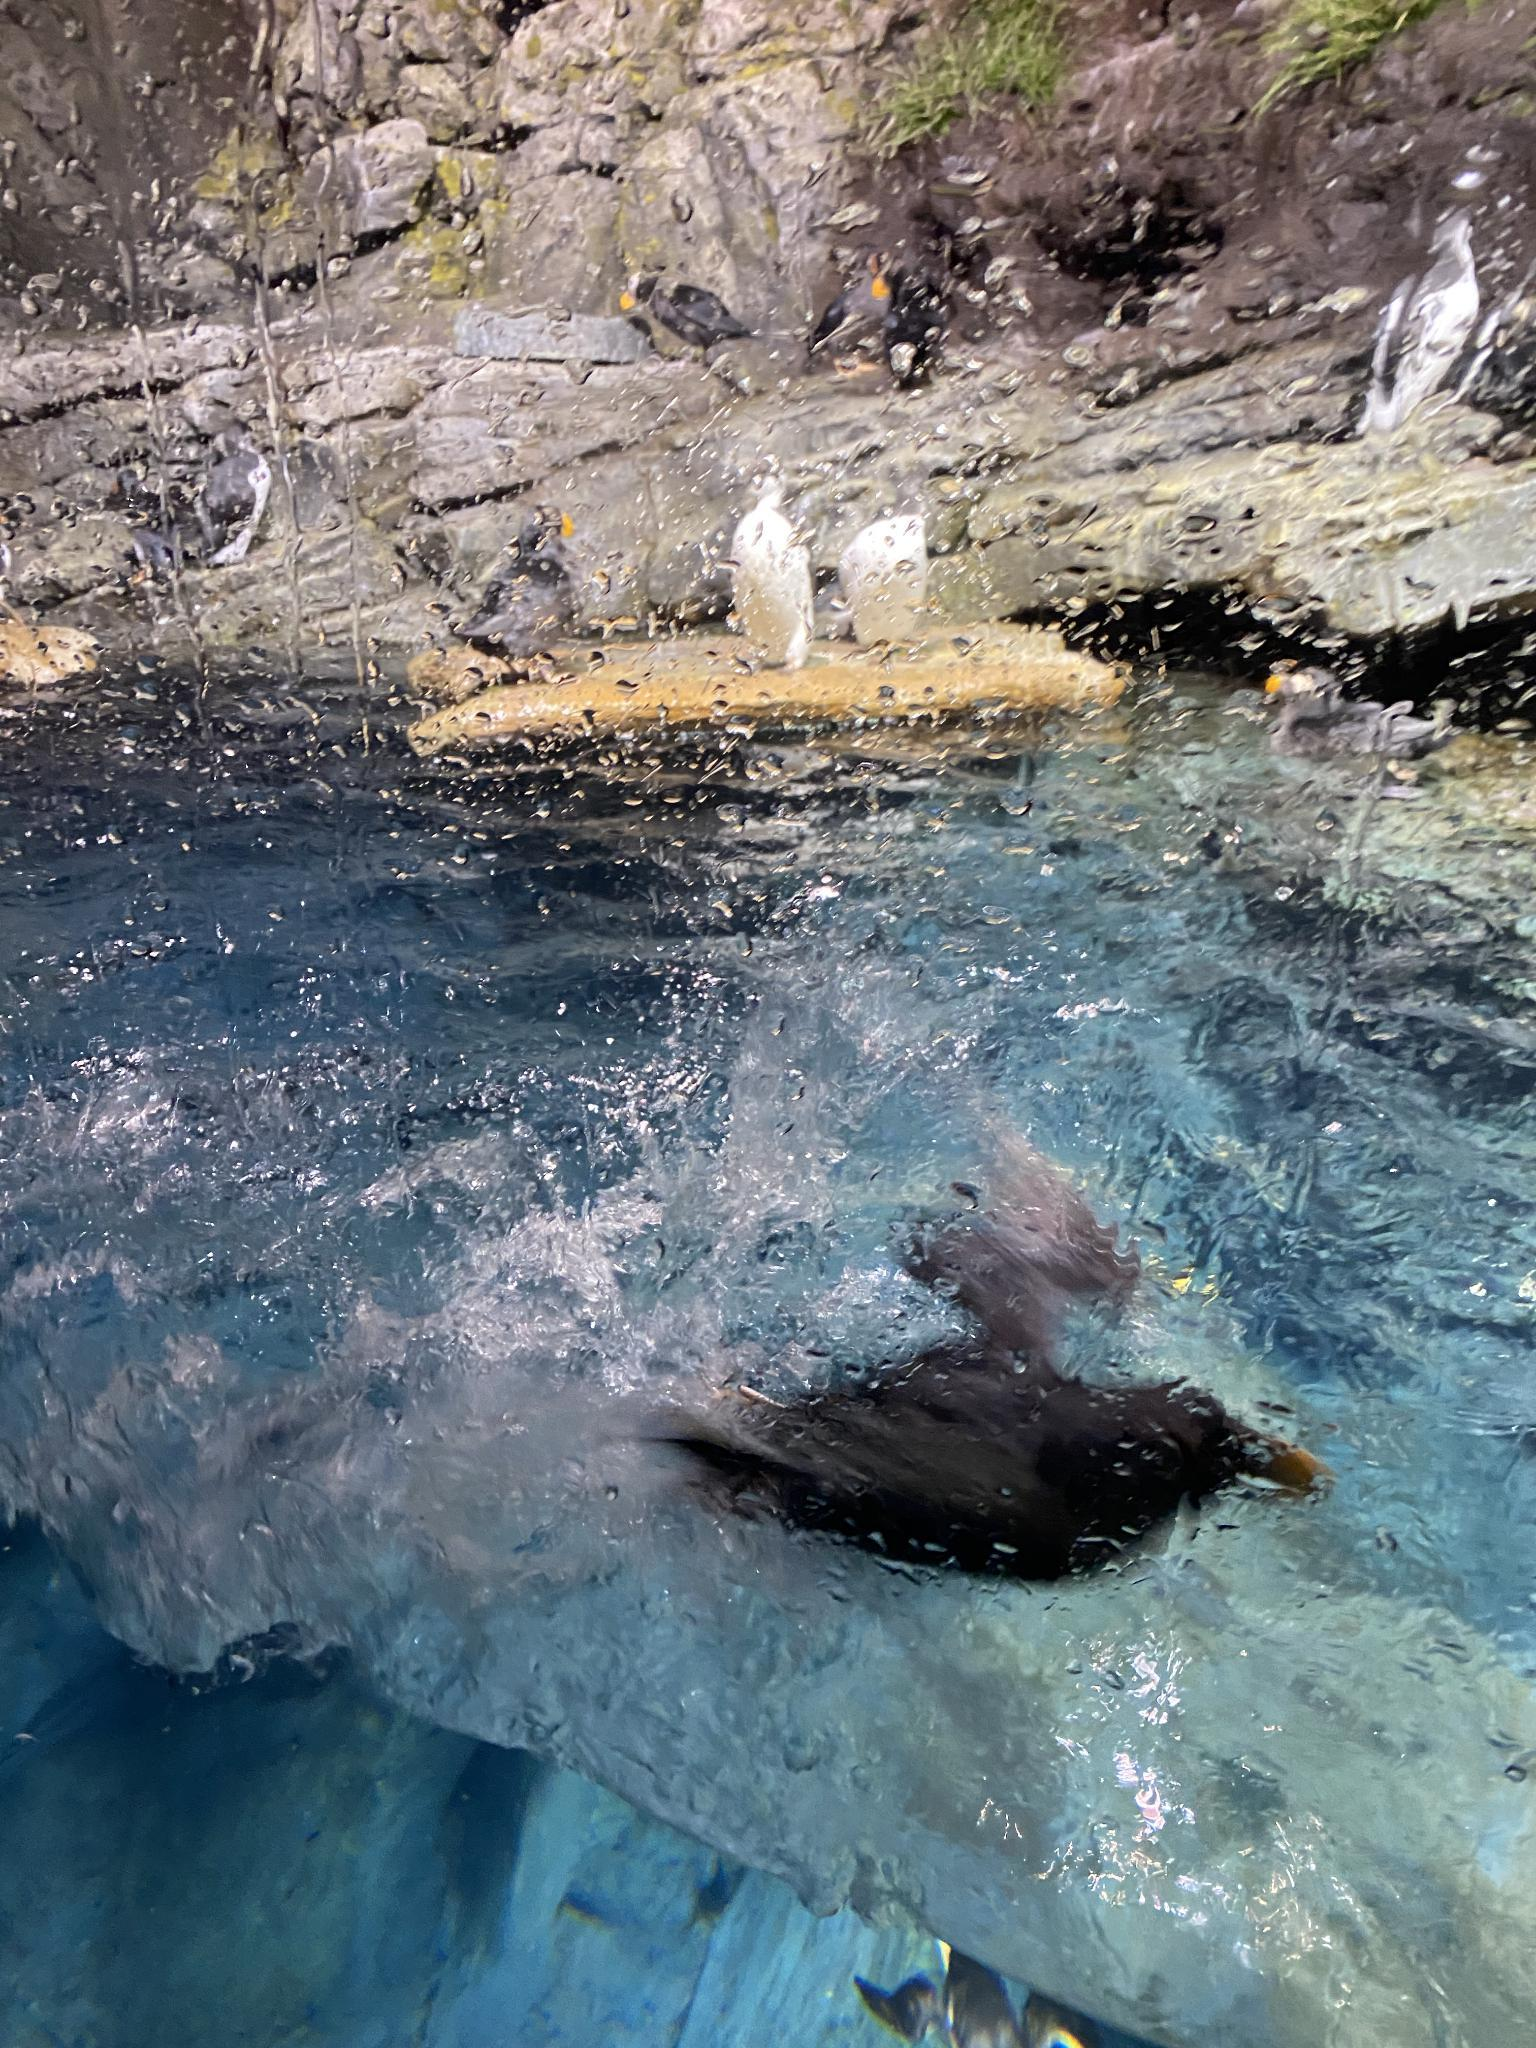puffin: (636, 1119, 1329, 1595), (1338, 145, 1497, 452), (440, 498, 599, 690), (1254, 655, 1459, 787), (715, 464, 823, 685), (145, 423, 284, 576), (821, 252, 950, 405), (834, 502, 936, 668), (615, 264, 752, 377)
